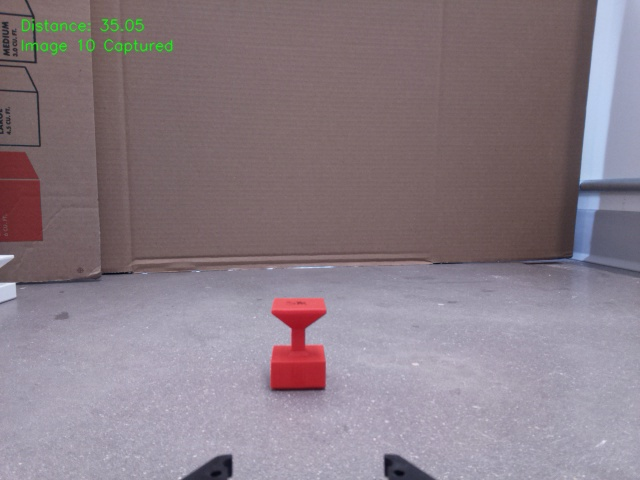block: (270, 296, 327, 389)
